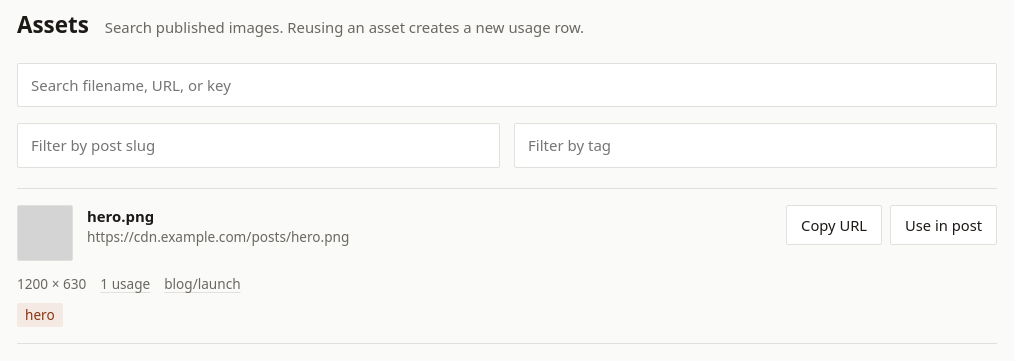
Scenario: AssetCatalog › filters by clicking a tag or a post slug
Step 1. Click the button "hero" → (40, 315), box [17,303,63,327]
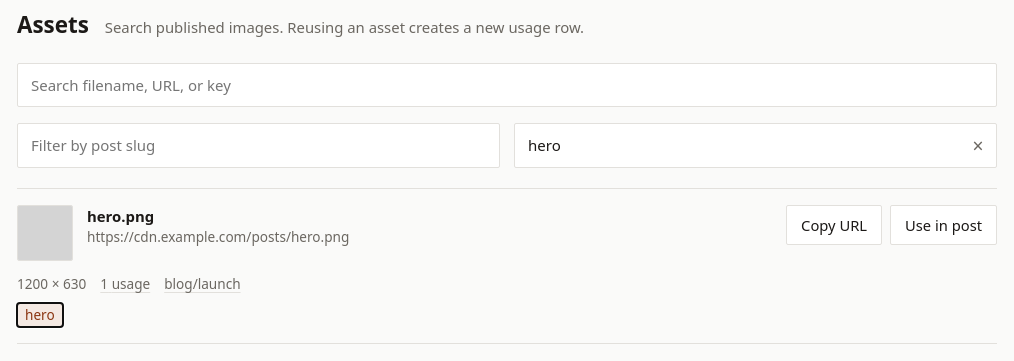
Step 2. Click the button "blog/launch" → (202, 285), box [164,274,241,295]
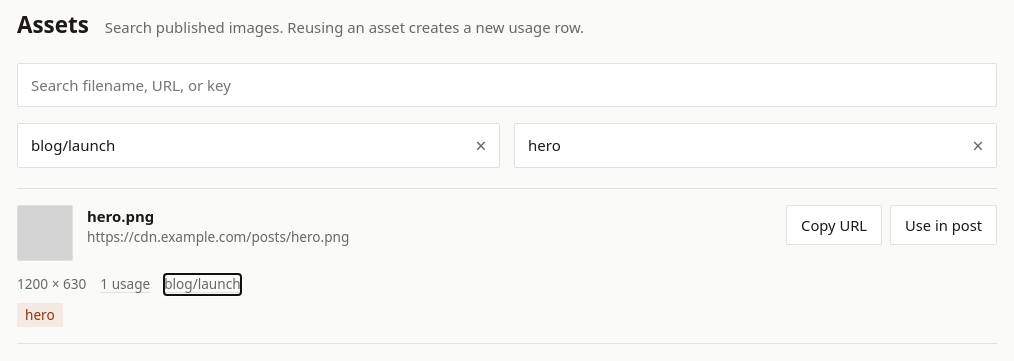
Expected: the 2nd field with placeholder "Filter by tag" holds "hero", [514,123,997,168]
Expected: the 1st field with placeholder "Filter by post slug" holds "blog/launch", [17,123,500,168]
